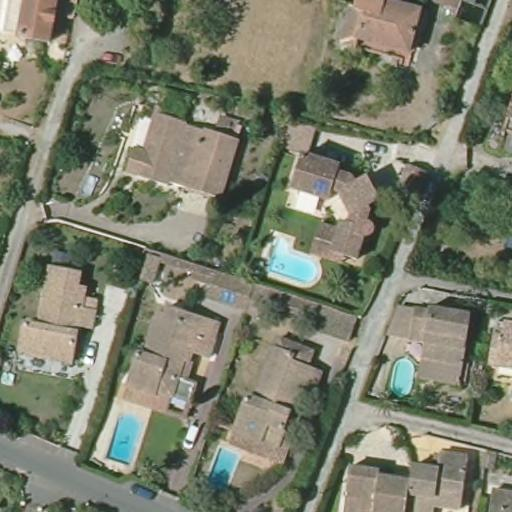pool: (253, 228, 326, 289), (194, 439, 246, 497), (104, 405, 146, 469), (385, 351, 416, 397)
